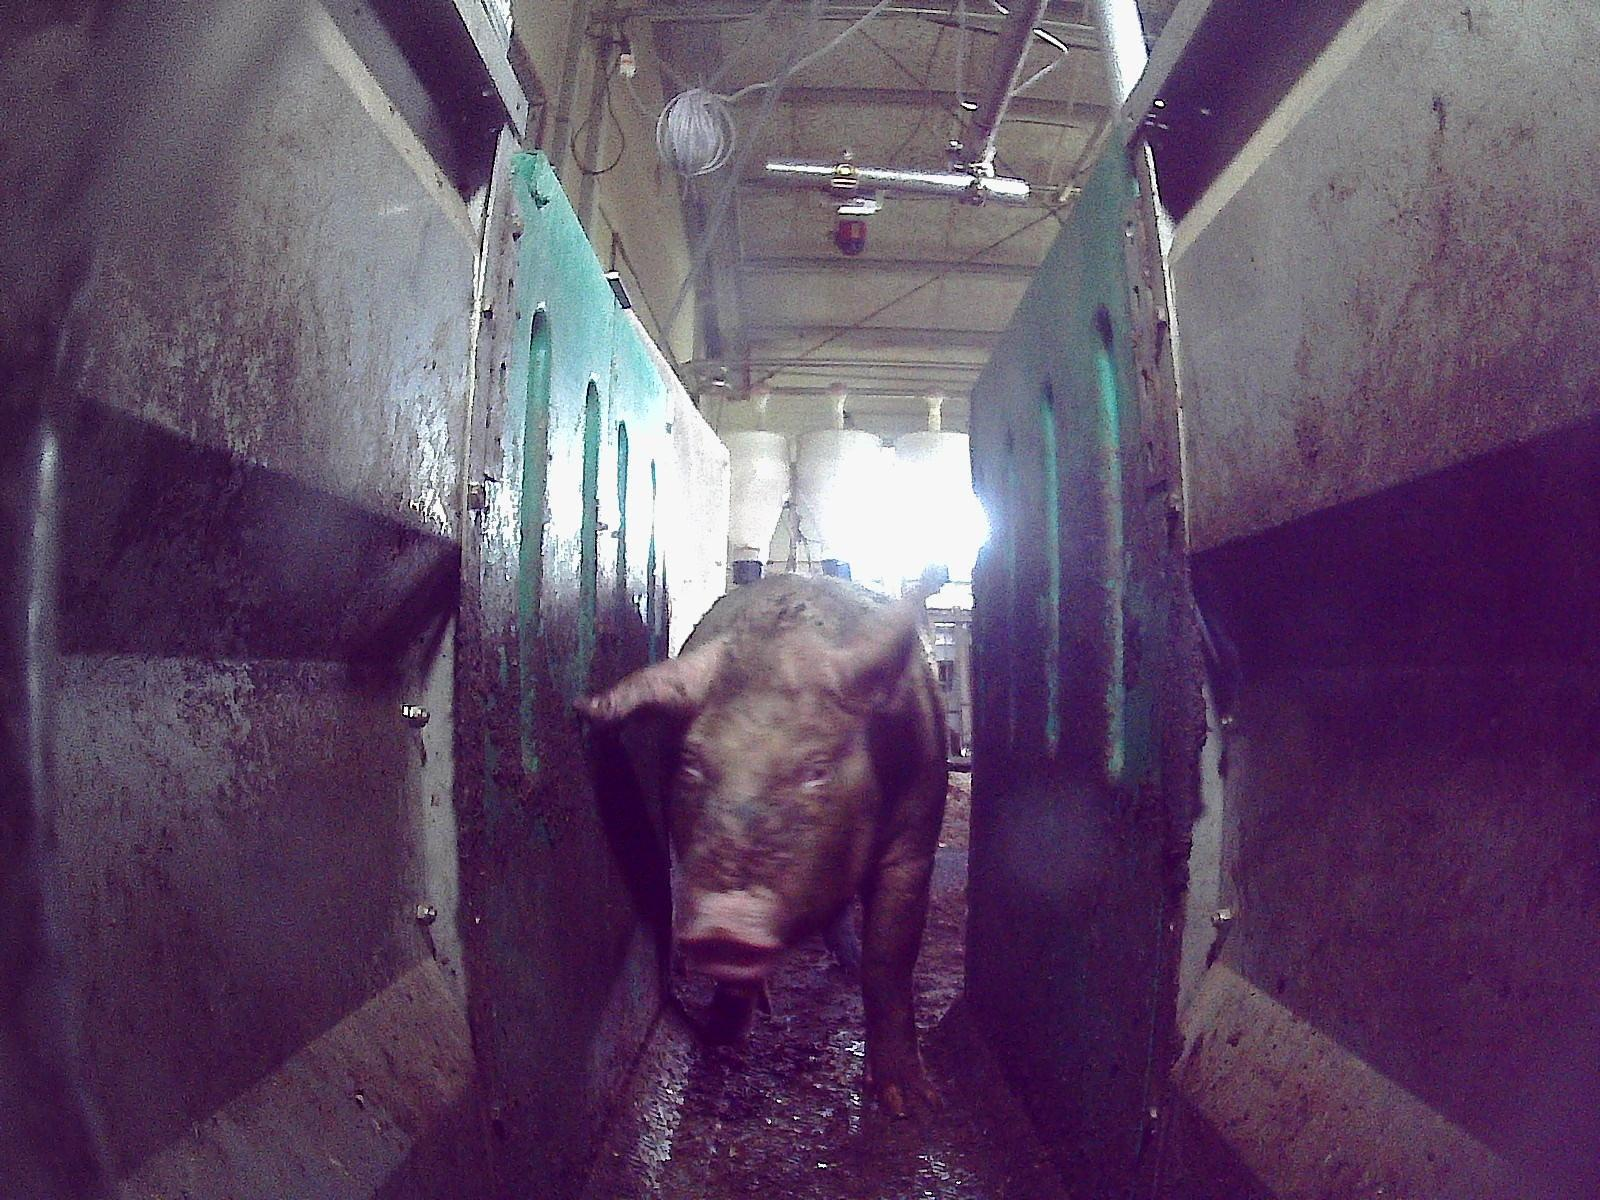Face: (664, 629, 880, 983)
